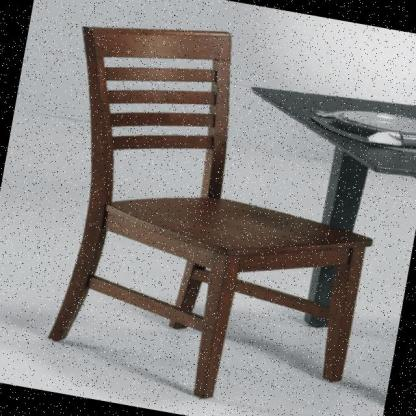Chair: (0, 0, 416, 416)
Table: (200, 60, 416, 336)
